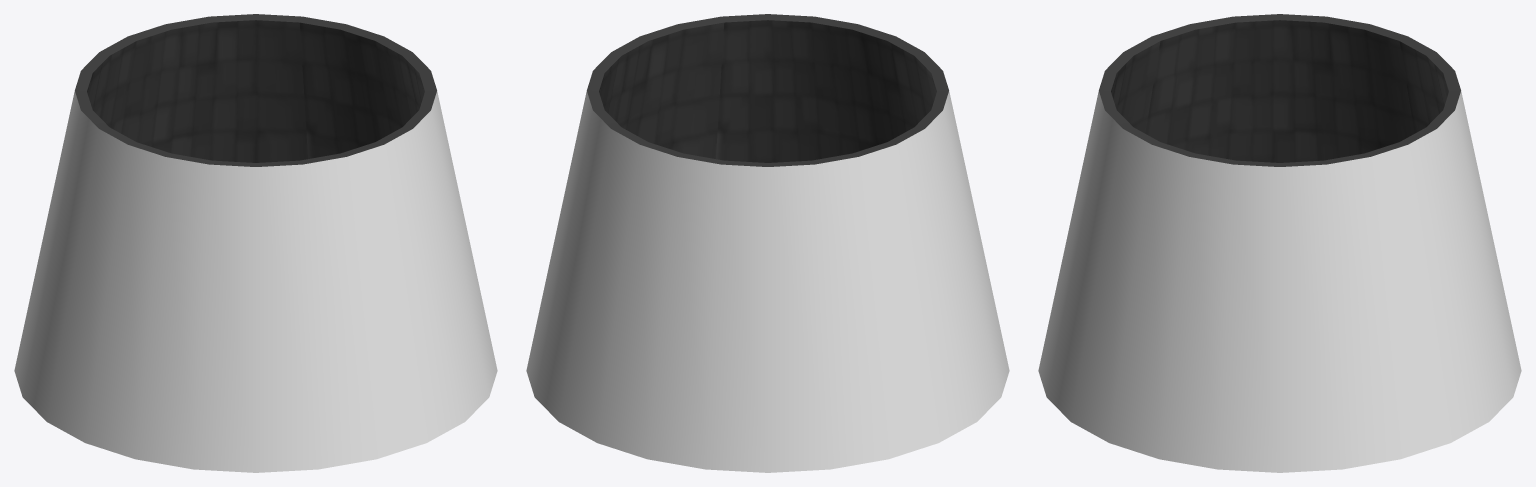
The model's file is Thor_Ablestar_Interstage.obj.
3 renders of one model, left to right at view 1: azimuth 30°, elevation 25°; view 2: azimuth 150°, elevation 25°; view 3: azimuth 270°, elevation 25°, orthographic.
Visible parts, largest first — view 1: Cylinder1; view 2: Cylinder1; view 3: Cylinder1.
Part boxes in pixels (x1,y1,x2,y2): Cylinder1: (14,14,497,472); Cylinder1: (526,14,1009,472); Cylinder1: (1038,14,1521,472).
Size of the model in its own units: 2 by 1.28 by 2.
